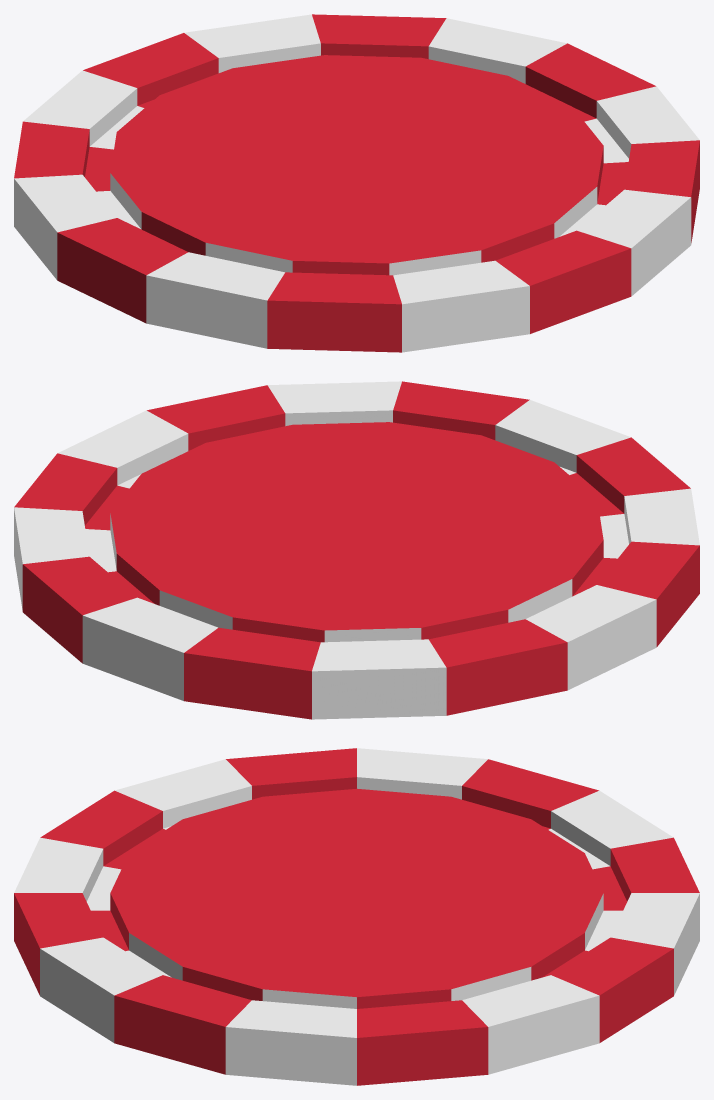
File: RedChip.fbx
3 renders of one model, top to bottom at view 1: azimuth 30°, elevation 25°; view 2: azimuth 150°, elevation 25°; view 3: azimuth 270°, elevation 25°, orthographic.
Visible parts, largest first — view 1: Chip; view 2: Chip; view 3: Chip.
Boxes of the visible parts, bbox=[...] form: Chip: bbox=[14, 14, 699, 352]; Chip: bbox=[14, 381, 699, 719]; Chip: bbox=[14, 748, 699, 1085].
Size of the model in its own units: 39 by 3.01 by 39.
